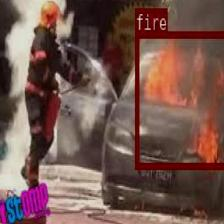fire: (134, 30, 224, 168)
